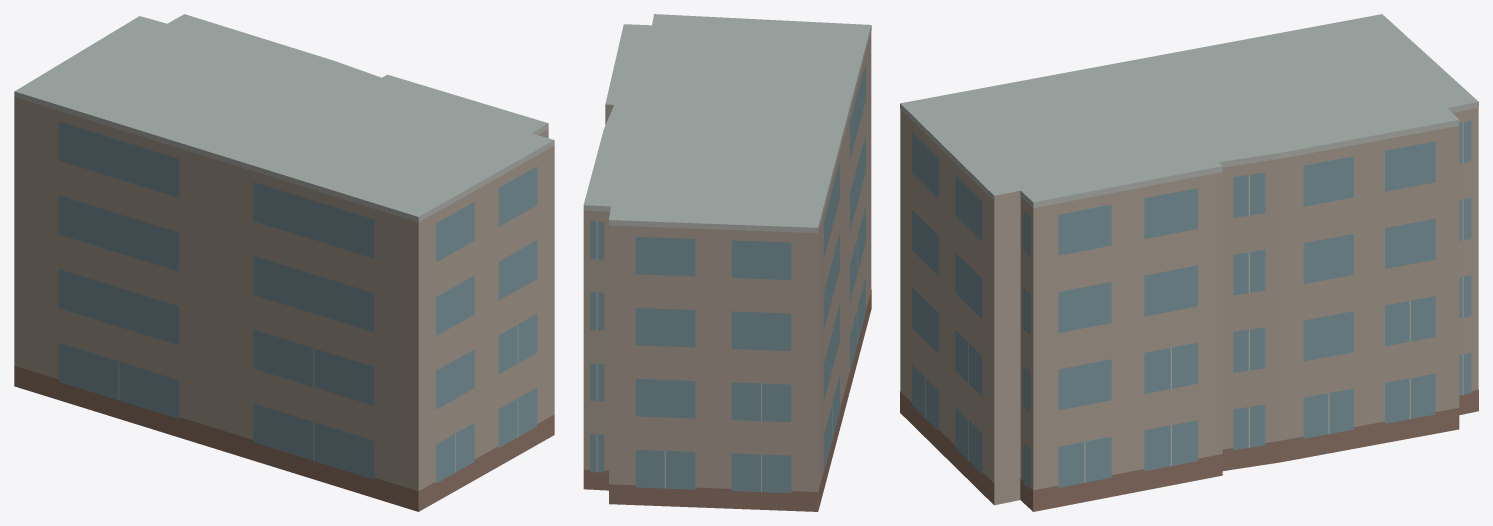
File: survey-upis-32723276.glb
The picture shows the model from 3 angles, left to right: view 1: azimuth 30°, elevation 25°; view 2: azimuth 150°, elevation 25°; view 3: azimuth 270°, elevation 25°; orthographic projection. The views are drawn at different scales.
Visible parts, largest first — view 1: survey-upis-32723276.tmp; view 2: survey-upis-32723276.tmp; view 3: survey-upis-32723276.tmp.
Boxes of the visible parts, box(x1,y1,x2,y2) form: survey-upis-32723276.tmp: box(14, 14, 554, 511); survey-upis-32723276.tmp: box(583, 14, 871, 511); survey-upis-32723276.tmp: box(900, 14, 1478, 511).
Bounding box in the file's own units: 16.86 × 12.9 × 21.87.
